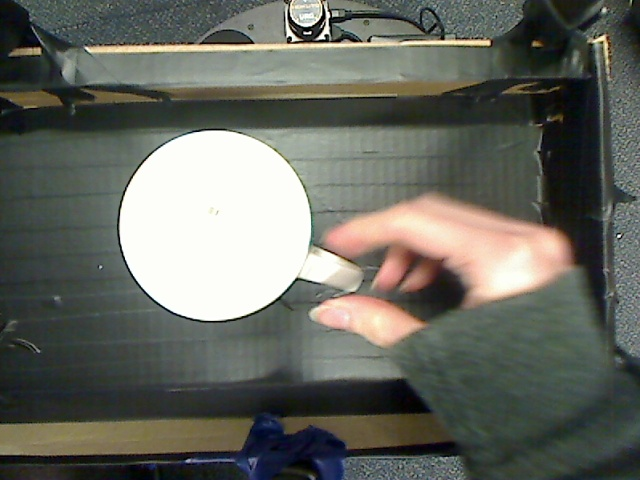mug: (110, 123, 381, 336)
